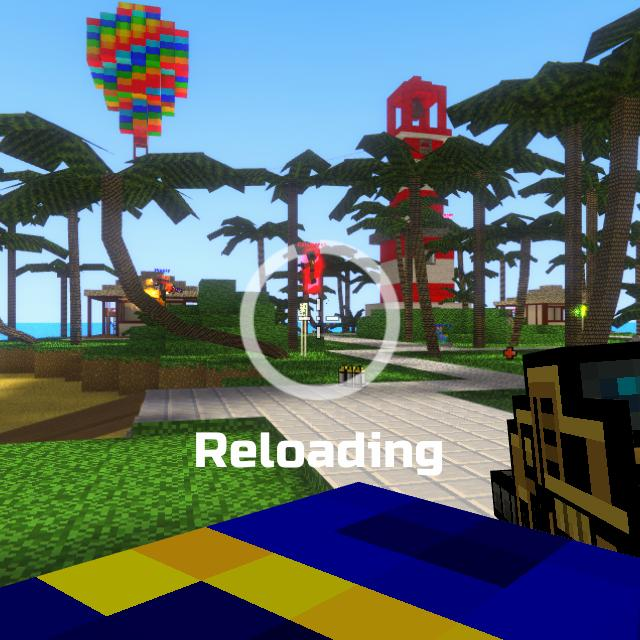Enemy: (305, 249, 319, 283)
